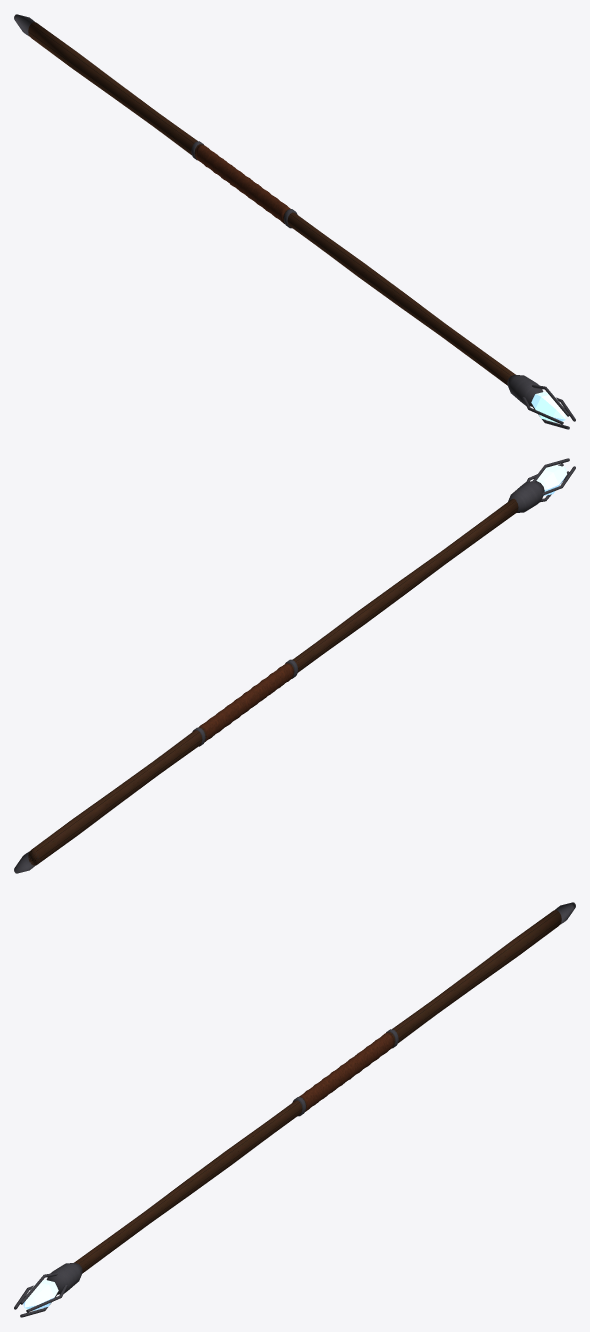
The model's file is weapon_staff.glb.
3 views of the same model, one above another, from view 1: azimuth 30°, elevation 25°; view 2: azimuth 150°, elevation 25°; view 3: azimuth 330°, elevation 25° (orthographic).
Parts seen in each view (by area): view 1: ash_staff; view 2: ash_staff; view 3: ash_staff.
Part boxes in pixels (x1=…): ash_staff: x1=14, y1=14, x2=575, y2=429; ash_staff: x1=14, y1=458, x2=575, y2=873; ash_staff: x1=14, y1=902, x2=575, y2=1317.
Size of the model in its own units: 0.0688 by 0.0688 by 1.91.
Materials: 4 (3 with a texture image).
